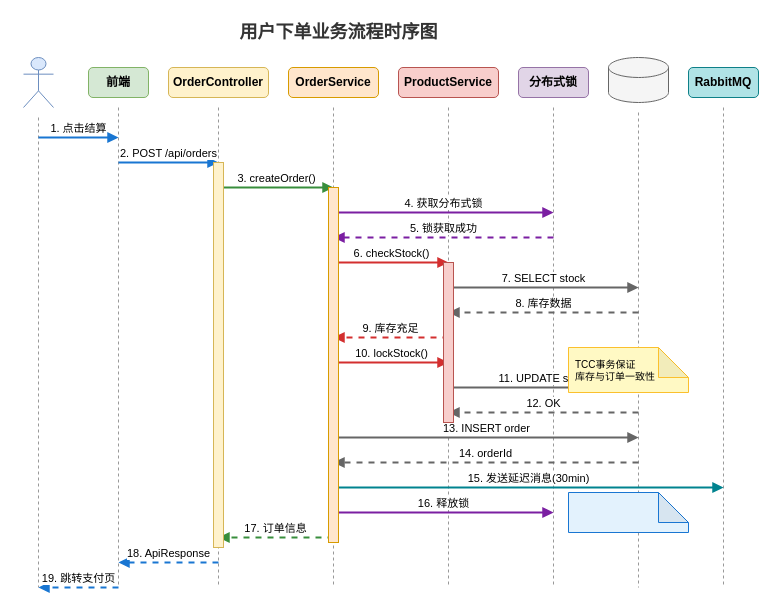
Image size: 776x613. Some labels were removed from this diagram. The shapes that lost their labels are listed below. From the top down, each one's box as (x1, y1, x2, y2) in pixels, then its label:
(22, 56, 54, 108): 👤 用户
(608, 56, 668, 102): Database
(568, 492, 688, 532): 30分钟延迟消息 用于订单超时取消
